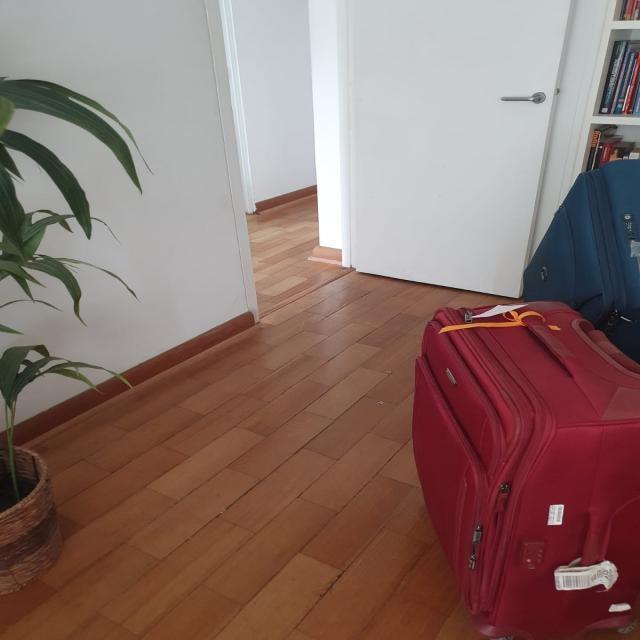Suitcase: (411, 297, 640, 640), (514, 159, 640, 300)
